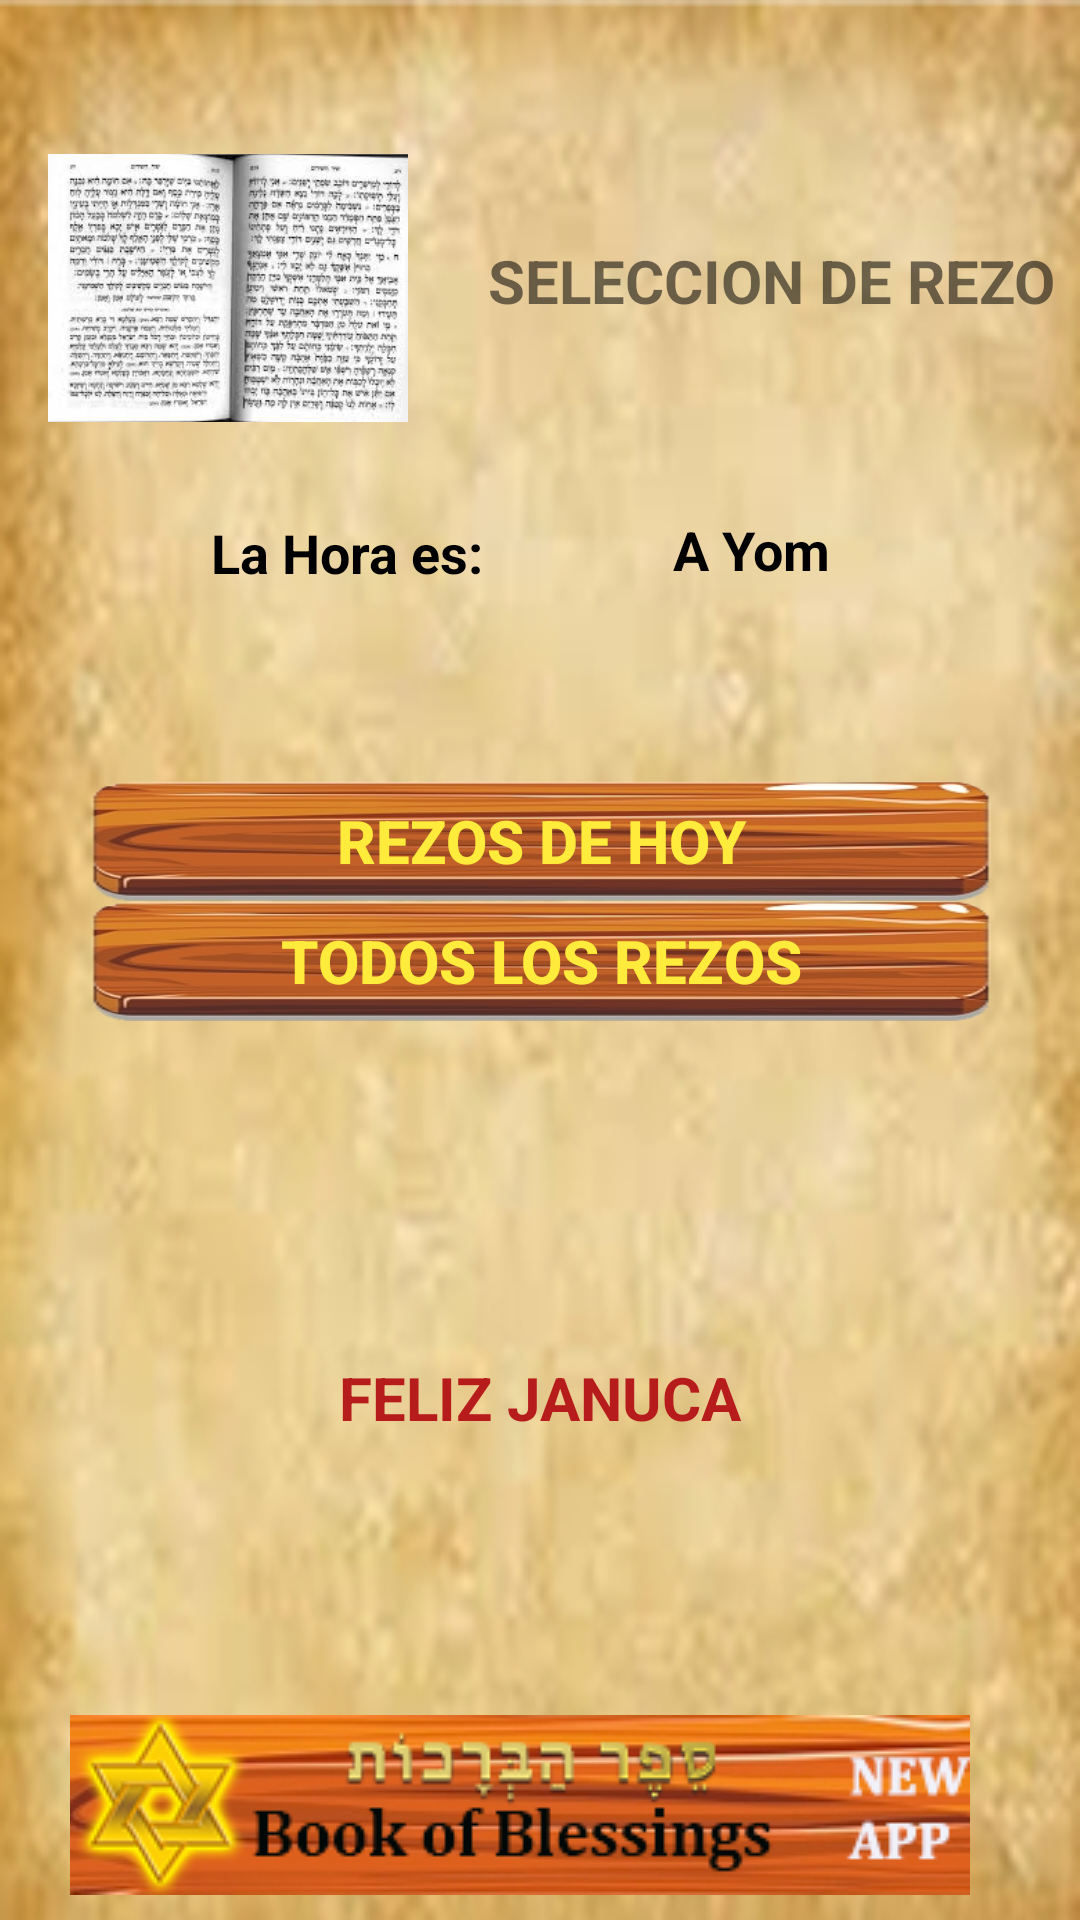

Screen size 1080 × 1920. Icon name, then its center in pixels as point (x, y):
imagensidur: point (228, 288)
